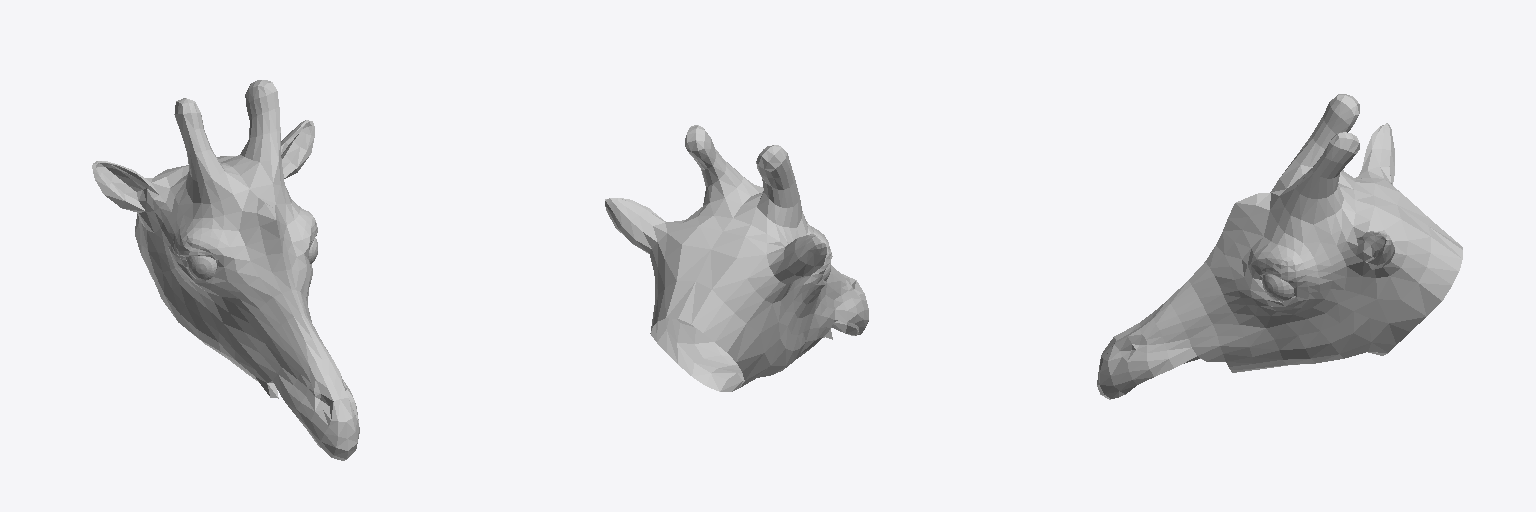
Rendered from Jcabeza.obj.
3 renders of one model, left to right at view 1: azimuth 30°, elevation 25°; view 2: azimuth 150°, elevation 25°; view 3: azimuth 270°, elevation 25°, orthographic.
Parts seen in each view (by area): view 1: Cabeza; view 2: Cabeza; view 3: Cabeza.
Part boxes in pixels (left/top/right/bottom): Cabeza: left=92, top=80, right=359, bottom=460; Cabeza: left=605, top=125, right=868, bottom=391; Cabeza: left=1097, top=94, right=1462, bottom=399.
Bounding box in the file's own units: 0.2849 × 0.3505 × 0.4071.